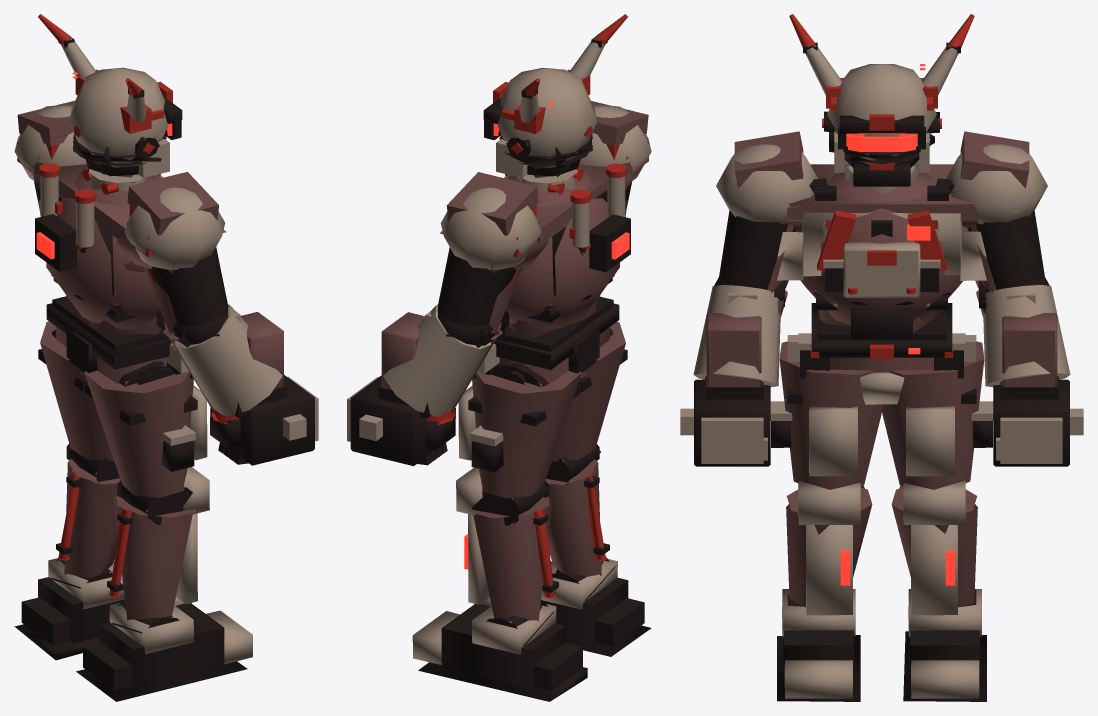
The model's file is humanoide_berserker.glb.
3 views of the same model, side by side, from view 1: azimuth 30°, elevation 25°; view 2: azimuth 150°, elevation 25°; view 3: azimuth 270°, elevation 25° (orthographic). The views are drawn at different scales.
Parts seen in each view (by area): view 1: mov_pierna_der, berserker_exobrazo_d, mov_pierna_izq, berserker_torso, berserker_casco, mov_torso, pelvis, berserker_exobrazo_i, mov_brazo_der, mov_cabeza; view 2: mov_pierna_izq, berserker_exobrazo_i, mov_pierna_der, berserker_torso, berserker_casco, mov_torso, pelvis, berserker_exobrazo_d, mov_brazo_izq, mov_cabeza; view 3: mov_pierna_der, mov_pierna_izq, berserker_exobrazo_i, berserker_exobrazo_d, mov_torso, berserker_torso, berserker_casco, pelvis, mov_cabeza, mov_brazo_der, mov_brazo_izq.
Part boxes in pixels (x1=…): mov_pierna_der: x1=76, y1=361, x2=252, y2=701; berserker_exobrazo_d: x1=124, y1=172, x2=318, y2=465; mov_pierna_izq: x1=14, y1=321, x2=191, y2=660; berserker_torso: x1=35, y1=163, x2=159, y2=329; berserker_casco: x1=38, y1=14, x2=182, y2=177; mov_torso: x1=33, y1=162, x2=169, y2=356; pelvis: x1=46, y1=303, x2=192, y2=384; berserker_exobrazo_i: x1=14, y1=100, x2=86, y2=295; mov_brazo_der: x1=117, y1=230, x2=248, y2=464; mov_cabeza: x1=72, y1=72, x2=181, y2=182; mov_pierna_izq: x1=412, y1=363, x2=587, y2=701; berserker_exobrazo_i: x1=347, y1=172, x2=541, y2=466; mov_pierna_der: x1=474, y1=321, x2=651, y2=656; berserker_torso: x1=506, y1=163, x2=630, y2=329; berserker_casco: x1=483, y1=14, x2=627, y2=177; mov_torso: x1=496, y1=162, x2=632, y2=352; pelvis: x1=473, y1=303, x2=619, y2=384; berserker_exobrazo_d: x1=579, y1=101, x2=651, y2=296; mov_brazo_izq: x1=417, y1=230, x2=548, y2=465; mov_cabeza: x1=484, y1=101, x2=592, y2=177; mov_pierna_der: x1=770, y1=341, x2=881, y2=701; mov_pierna_izq: x1=882, y1=341, x2=993, y2=701; berserker_exobrazo_i: x1=946, y1=131, x2=1083, y2=466; berserker_exobrazo_d: x1=680, y1=131, x2=817, y2=466; mov_torso: x1=786, y1=164, x2=977, y2=340; berserker_torso: x1=800, y1=160, x2=962, y2=339; berserker_casco: x1=789, y1=14, x2=974, y2=186; pelvis: x1=787, y1=303, x2=976, y2=404; mov_cabeza: x1=822, y1=64, x2=941, y2=170; mov_brazo_der: x1=728, y1=206, x2=803, y2=317; mov_brazo_izq: x1=960, y1=205, x2=1035, y2=317.
Bounding box in the file's own units: 0.6958 × 2.2 × 1.26.
